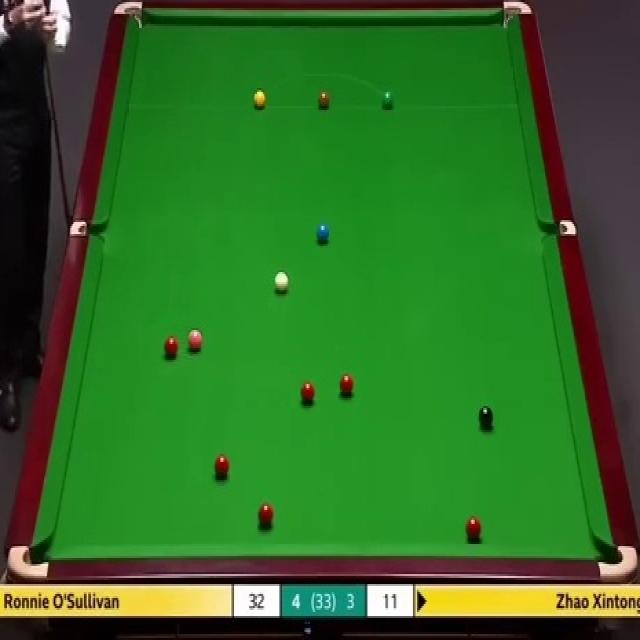pocket: (594, 543, 639, 582), (6, 543, 49, 582), (112, 0, 145, 34), (499, 0, 530, 32), (539, 218, 576, 238), (67, 220, 105, 235)
